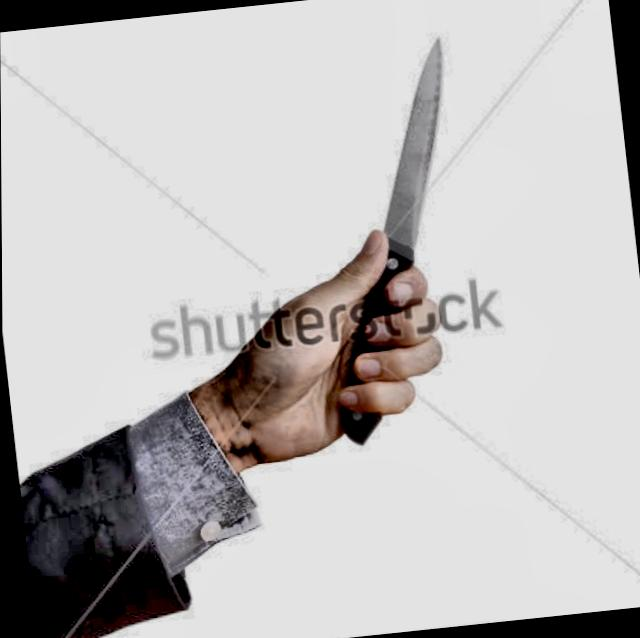knife: (316, 24, 484, 384)
